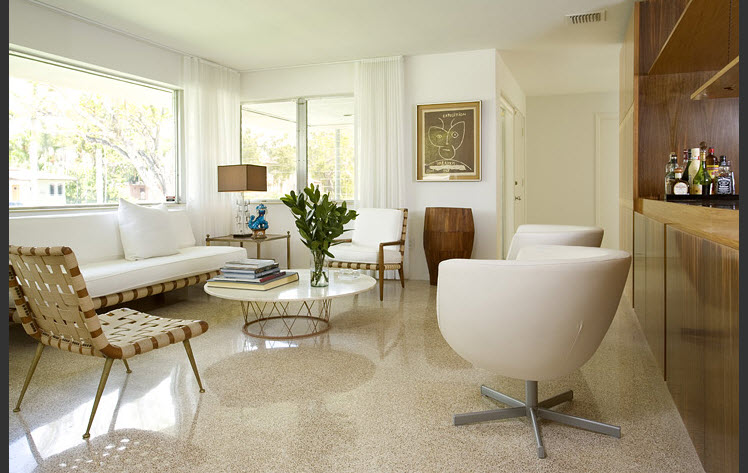chair: (436, 243, 636, 458), (5, 243, 210, 443), (12, 208, 246, 303), (331, 207, 409, 290), (502, 221, 603, 268)
